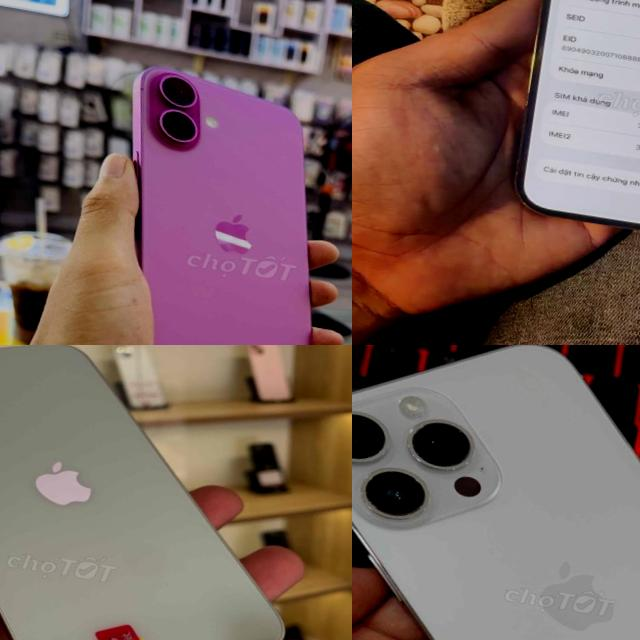gen_14: (352, 345, 640, 640), (499, 0, 640, 248)
gen_15: (0, 345, 328, 640)
gen_16: (133, 68, 310, 345)
